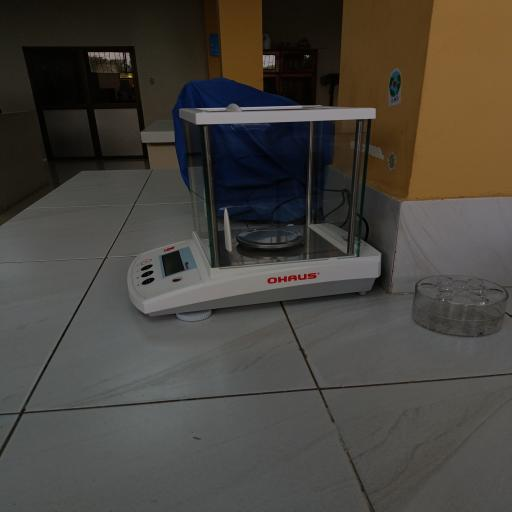Balanza_Analitica_Ohaus: (122, 96, 399, 330)
